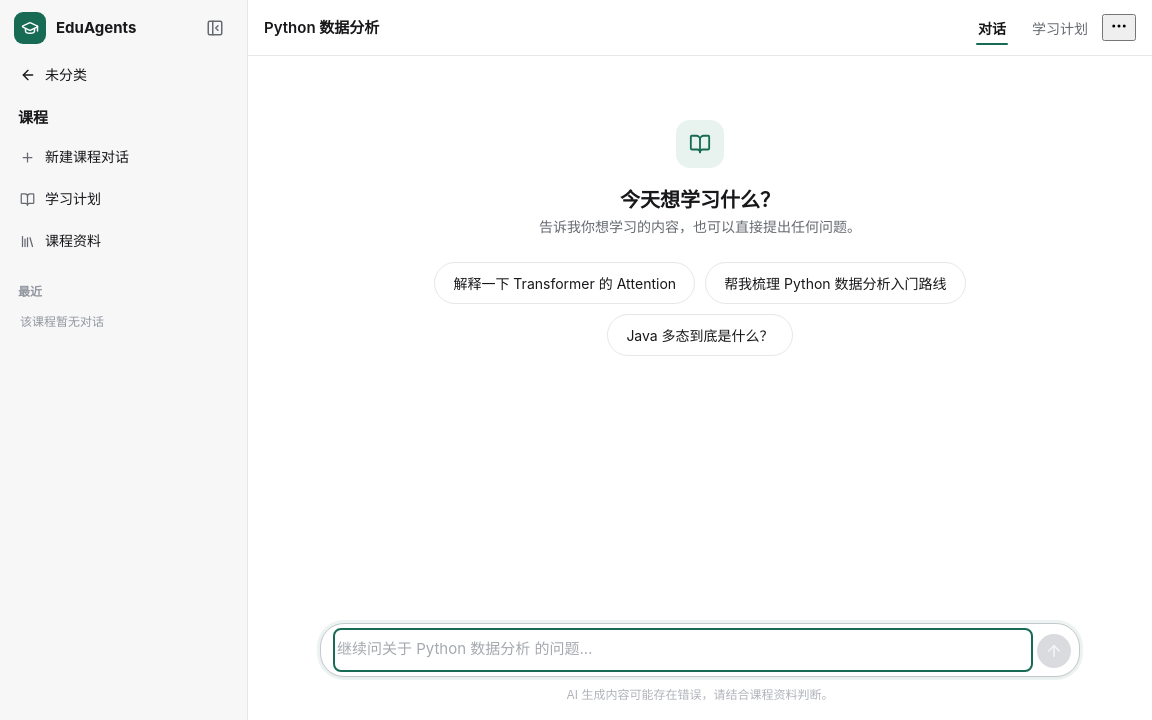
Scenario: host-relative navigation (CourseHeader tabs + Plan Step) › CourseHeader 学习计划 tab from course chat → /host/learning/courses/PY/plan (host-relative)
This screenshot has width=1152, height=720.
Expected: the button "对话" is shown, [966,12,1018,44]
Click the 1st button "学习计划": (1060, 28) [1020,12,1100,44]
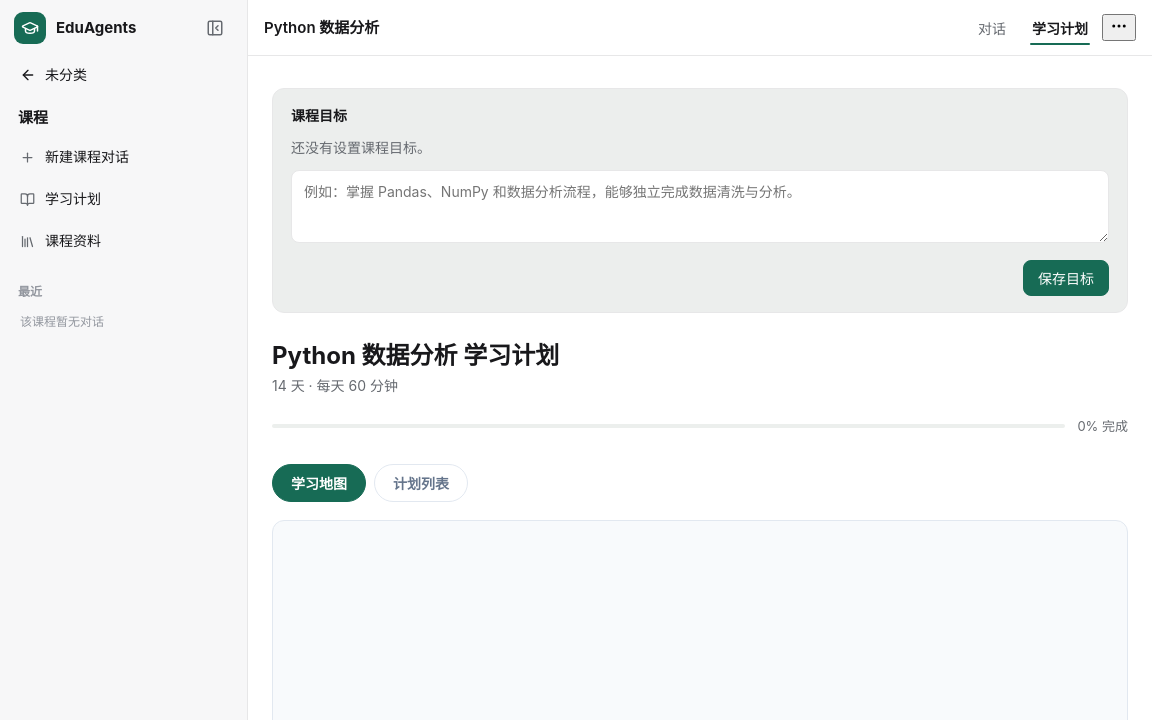
Expected: the tab "计划列表" is shown
Click the tab "计划列表": (421, 483) [374,464,468,502]
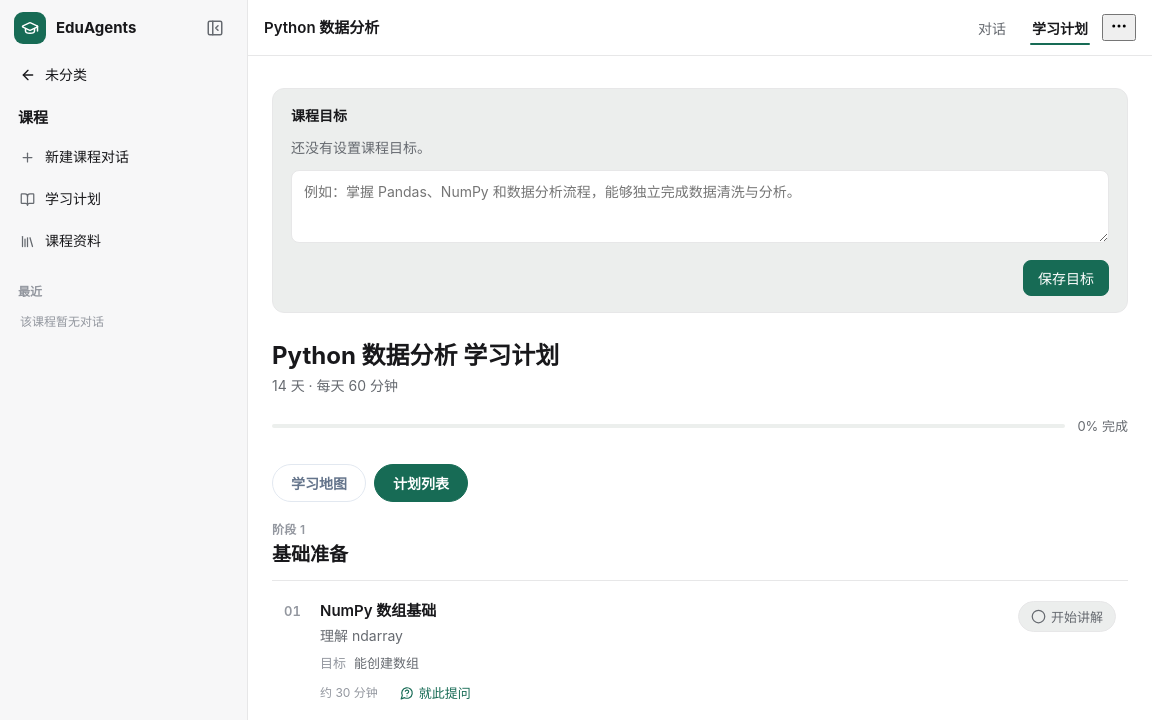
Expected: the text "阶段 1" is shown, [272,522,306,537]
